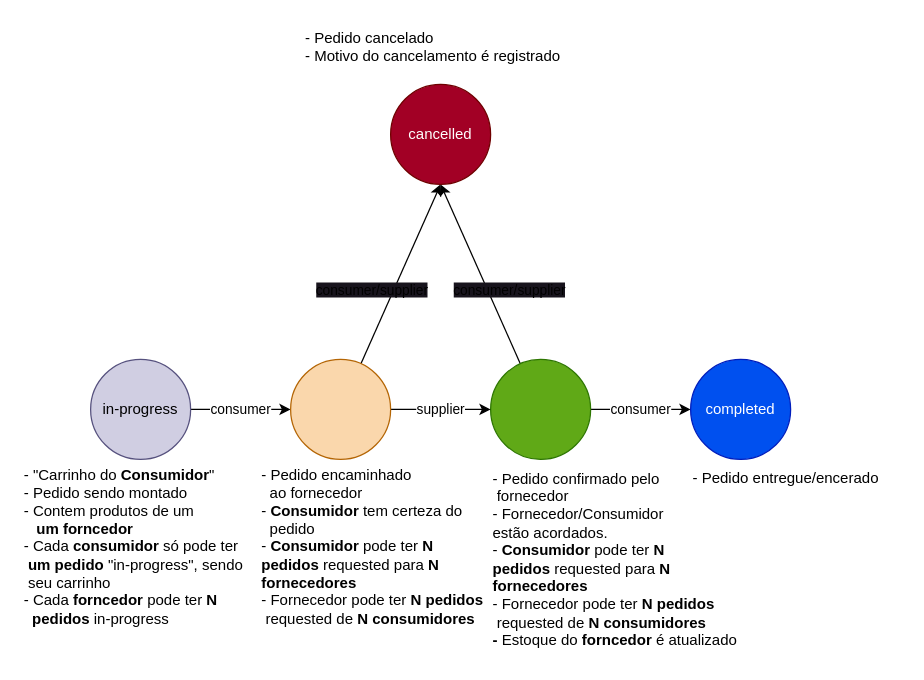
Image size: 924x680. Some labels were removed from this diagram. Here are the shapes that lost their labels. From the top down, the box of each, then its label:
(289, 358, 391, 459): requested
(489, 358, 591, 459): confirmed
